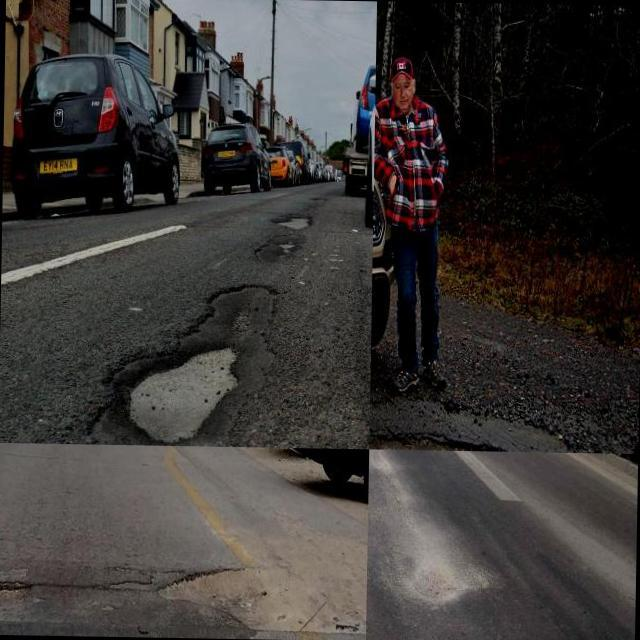Pothole: (98, 287, 276, 446), (156, 564, 295, 632), (276, 212, 313, 231)
